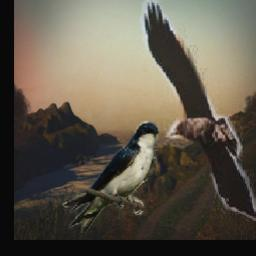Crow: (140, 0, 256, 222)
Swallow: (62, 120, 159, 233)
